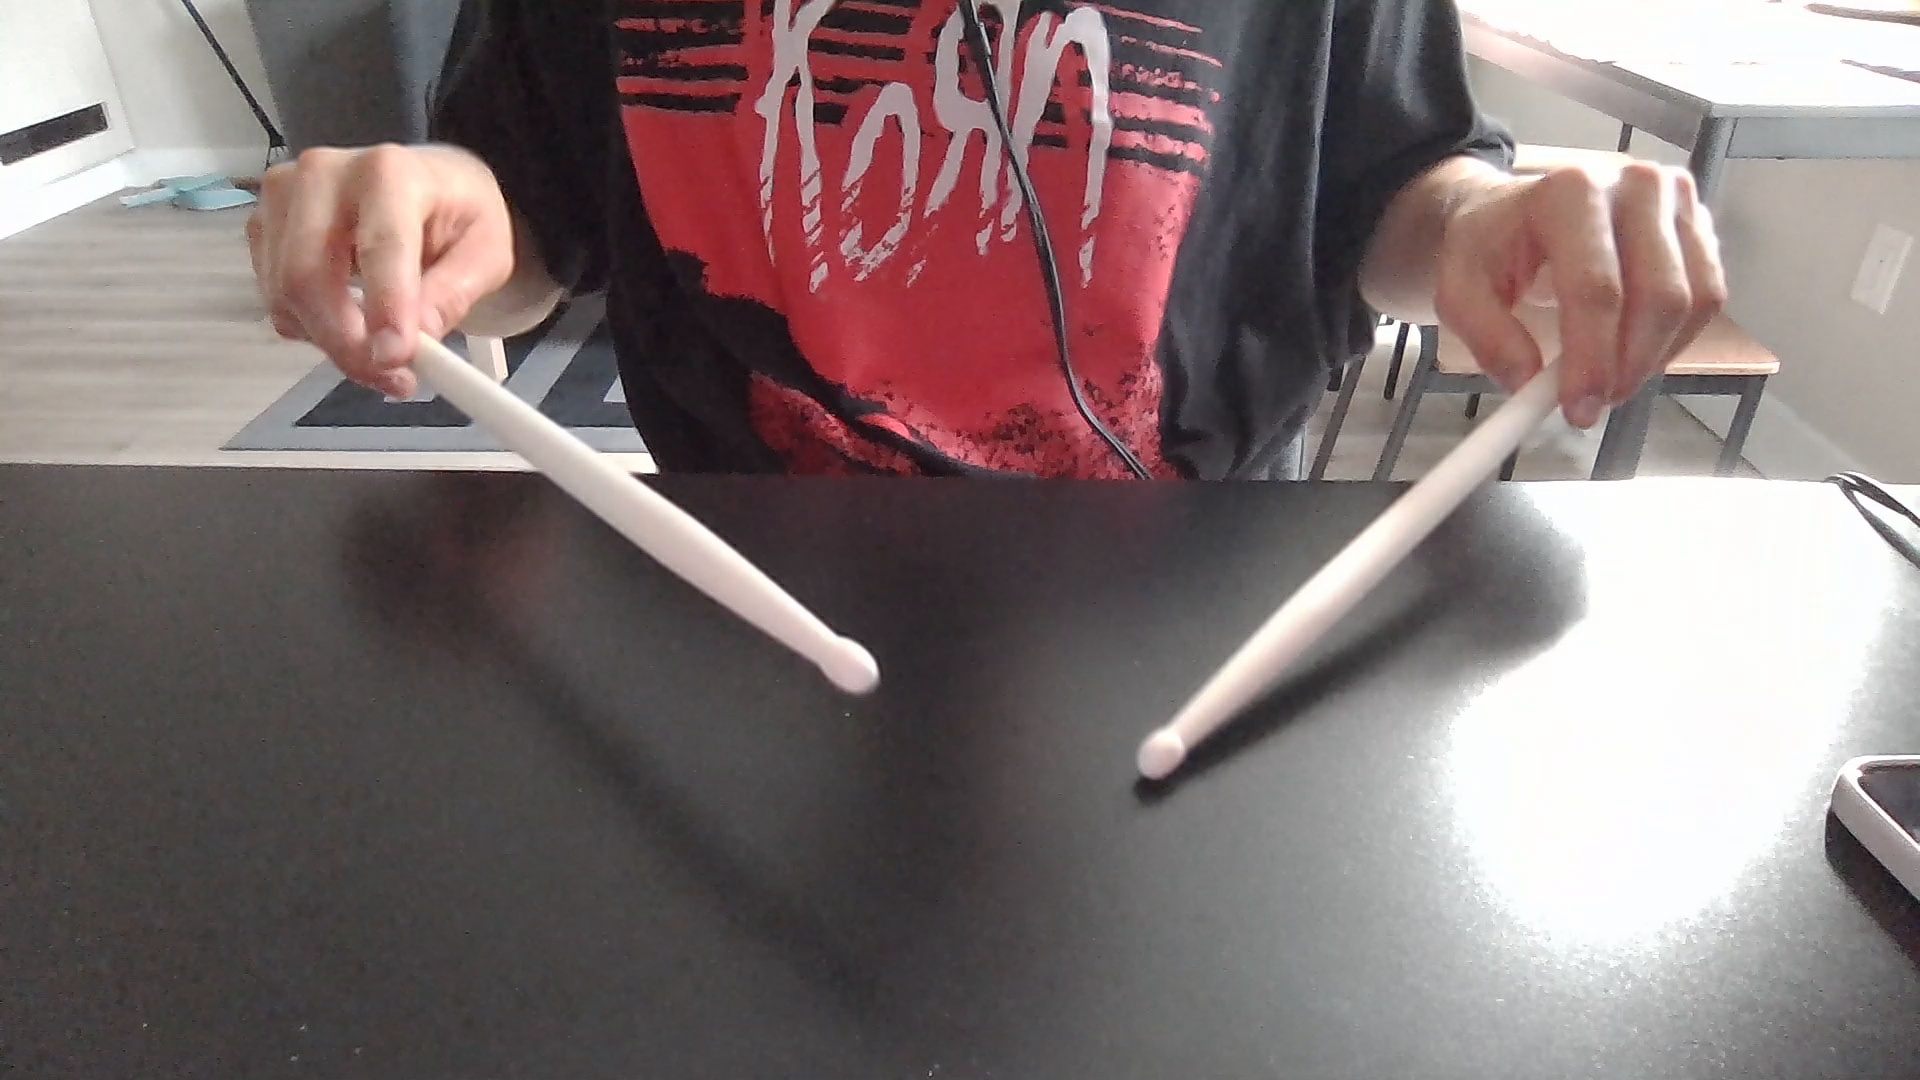left_stick: (806, 616, 905, 727)
right_stick: (1124, 700, 1203, 804)
